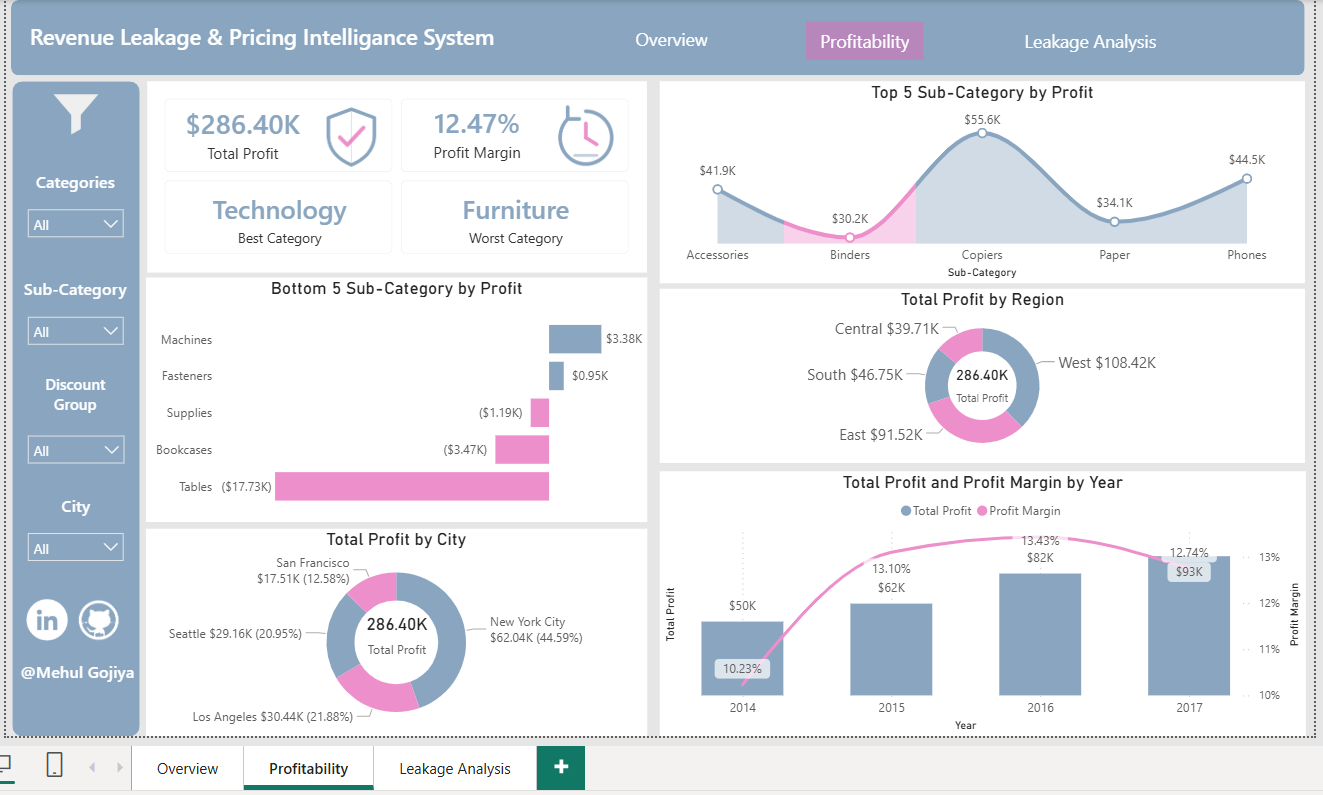

The page's visual inventory and layout, read from the dashboard file:
{"tool":"powerbi","page":{"name":"Profitability","canvas":[1280,720],"ordinal":1},"visuals":[{"type":"cardVisual","fields":{"Data":["Cleaned_Superstore.Total Profit","Cleaned_Superstore.Profit Margin","Max(Cleaned_Superstore.Category)","Min(Cleaned_Superstore.Category)1"]},"box":[138.2,79.5,489.1,187.1],"z":0},{"type":"clusteredBarChart","title":"Bottom 5 Sub-Category by Profit","fields":{"Category":["Cleaned_Superstore.Sub-Category"],"Y":["Cleaned_Superstore.Total Profit"]},"box":[137.1,271.8,490.6,238.8],"z":1000},{"type":"areaChart","title":"Top 5 Sub-Category by Profit","fields":{"Category":["Cleaned_Superstore.Sub-Category"],"Y":["Cleaned_Superstore.Total Profit"]},"box":[639.3,79.3,631.4,197.9],"z":2000},{"type":"lineStackedColumnComboChart","fields":{"Category":["Cleaned_Superstore.Order Date.Variation.Date Hierarchy.Year"],"Y2":["Cleaned_Superstore.Profit Margin"],"Y":["Cleaned_Superstore.Total Profit"]},"box":[639.3,460.7,632.1,259.3],"z":3000},{"type":"donutChart","fields":{"Category":["Cleaned_Superstore.City"],"Y":["Cleaned_Superstore.Total Profit"]},"box":[137.1,517.1,490,203.3],"z":4000},{"type":"shape","box":[5,0,1265.6,73.8],"z":5000},{"type":"shape","box":[6.2,79.5,124.8,641],"z":6000},{"type":"textbox","box":[18.3,15.9,505,61.1],"z":7000},{"type":"actionButton","box":[596.7,18.3,108.8,37.9],"z":8000},{"type":"actionButton","box":[782.6,20.8,114.9,37.9],"z":12000},{"type":"actionButton","box":[975.8,20.8,170,37.9],"z":13000},{"type":"image","box":[46.5,79.5,44,64.8],"z":14000},{"type":"slicer","fields":{"Values":["Cleaned_Superstore.Category"]},"box":[11.6,194.7,113.7,52.6],"z":15000},{"type":"textbox","box":[11.6,161.6,113.7,33.2],"z":16000},{"type":"slicer","fields":{"Values":["Cleaned_Superstore.Sub-Category"]},"box":[11.1,299.5,113.7,52.1],"z":17000},{"type":"slicer","fields":{"Values":["Cleaned_Superstore.Discount_Group"]},"box":[11.1,415.8,114.7,54.2],"z":18000},{"type":"slicer","fields":{"Values":["Cleaned_Superstore.City"]},"box":[11.1,511.1,113.7,52.6],"z":19000},{"type":"textbox","box":[11.6,266.3,113.7,33.2],"z":20000},{"type":"textbox","box":[11.6,361.1,113.7,54.7],"z":21000},{"type":"textbox","box":[14.2,478.4,107.4,32.6],"z":22000},{"type":"image","box":[56.4,567.6,68.8,78],"z":23000},{"type":"image","box":[12,576.4,56,61.2],"z":24000},{"type":"textbox","box":[0,640.8,139.6,32.8],"z":25000},{"type":"donutChart","fields":{"Y":["Cleaned_Superstore.Total Profit"],"Category":["Cleaned_Superstore.Region"]},"box":[640,282.9,631.4,170.7],"z":26000},{"type":"card","fields":{"Values":["Cleaned_Superstore.Total Profit"]},"box":[314.3,577.2,137,83.2],"z":27000},{"type":"card","fields":{"Values":["Cleaned_Superstore.Total Profit"]},"box":[886.5,332.1,137.2,83.7],"z":28000}]}

Visuals, with their boxes on the page's 1280x720 design canvas (x1, y1, x2, y2). These are canvas units, not pixel positions in the 1323x795 screenshot, which may show the page scaled, cropped or inside an application window:
cardVisual - Cleaned_Superstore.Total Profit x Cleaned_Superstore.Profit Margin: (left=138, top=80, right=627, bottom=267)
"Bottom 5 Sub-Category by Profit" clusteredBarChart: (left=137, top=272, right=628, bottom=511)
"Top 5 Sub-Category by Profit" areaChart: (left=639, top=79, right=1271, bottom=277)
lineStackedColumnComboChart - Cleaned_Superstore.Order Date.Variation.Date Hierarchy.Year x Cleaned_Superstore.Profit Margin: (left=639, top=461, right=1271, bottom=720)
donutChart - Cleaned_Superstore.City x Cleaned_Superstore.Total Profit: (left=137, top=517, right=627, bottom=720)
shape: (left=5, top=0, right=1271, bottom=74)
shape: (left=6, top=80, right=131, bottom=720)
textbox: (left=18, top=16, right=523, bottom=77)
actionButton: (left=597, top=18, right=706, bottom=56)
actionButton: (left=783, top=21, right=898, bottom=59)
actionButton: (left=976, top=21, right=1146, bottom=59)
image: (left=46, top=80, right=90, bottom=144)
slicer - Cleaned_Superstore.Category: (left=12, top=195, right=125, bottom=247)
textbox: (left=12, top=162, right=125, bottom=195)
slicer - Cleaned_Superstore.Sub-Category: (left=11, top=300, right=125, bottom=352)
slicer - Cleaned_Superstore.Discount_Group: (left=11, top=416, right=126, bottom=470)
slicer - Cleaned_Superstore.City: (left=11, top=511, right=125, bottom=564)
textbox: (left=12, top=266, right=125, bottom=300)
textbox: (left=12, top=361, right=125, bottom=416)
textbox: (left=14, top=478, right=122, bottom=511)
image: (left=56, top=568, right=125, bottom=646)
image: (left=12, top=576, right=68, bottom=638)
textbox: (left=0, top=641, right=140, bottom=674)
donutChart - Cleaned_Superstore.Total Profit x Cleaned_Superstore.Region: (left=640, top=283, right=1271, bottom=454)
card - Cleaned_Superstore.Total Profit: (left=314, top=577, right=451, bottom=660)
card - Cleaned_Superstore.Total Profit: (left=886, top=332, right=1024, bottom=416)
